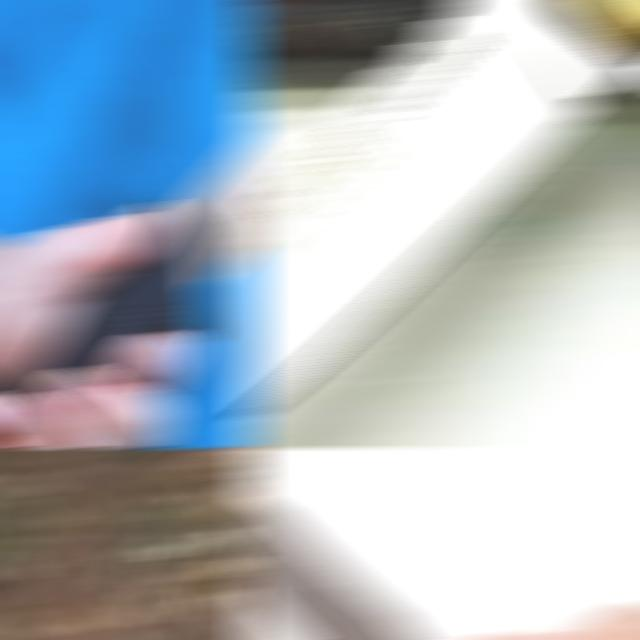Knife: (239, 0, 640, 419)
Knife_Handle: (0, 0, 259, 448), (239, 448, 626, 640)
